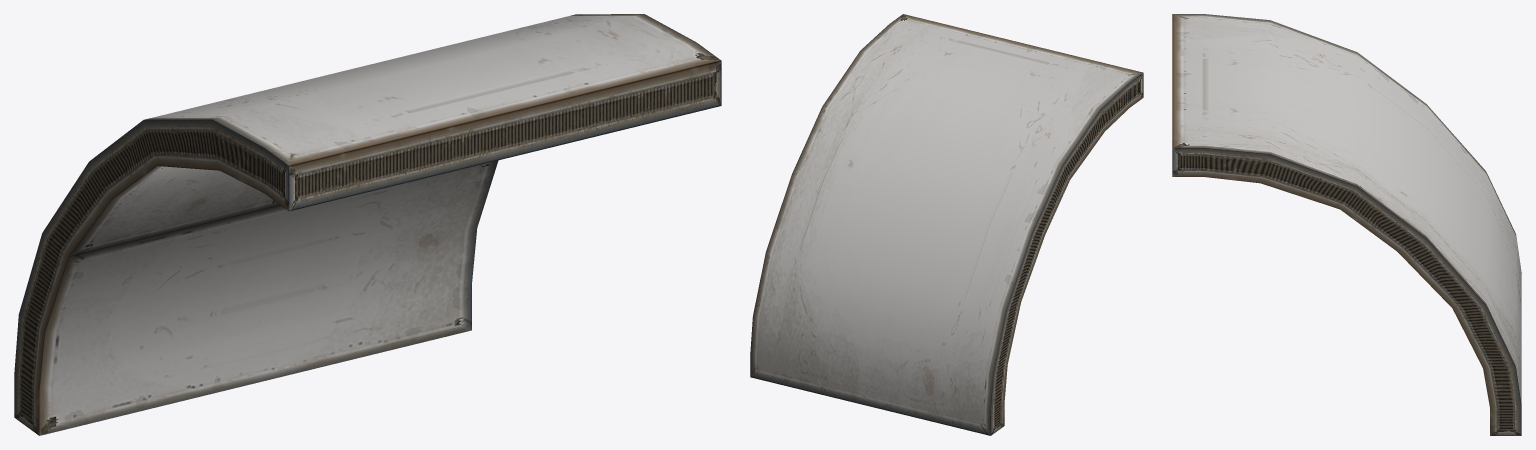
File: scifi_wall_top2_5.FBX
3 views of the same model, side by side, from view 1: azimuth 30°, elevation 25°; view 2: azimuth 150°, elevation 25°; view 3: azimuth 270°, elevation 25° (orthographic). The views are drawn at different scales.
Parts seen in each view (by area): view 1: Plane327; view 2: Plane327; view 3: Plane327.
Boxes of the visible parts, bbox=[...] form: Plane327: bbox=[14, 14, 721, 435]; Plane327: bbox=[750, 14, 1143, 435]; Plane327: bbox=[1172, 14, 1521, 435].
Bounding box in the file's own units: 254 × 254 × 279.
